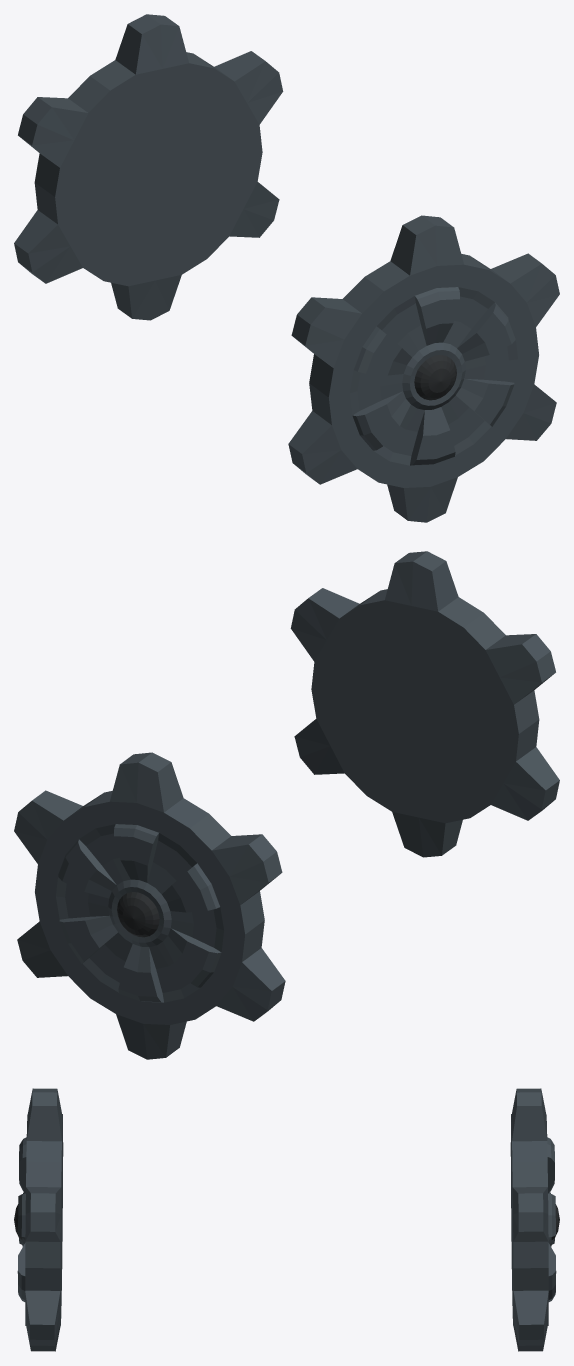
The model's file is Engrenagens.obj.
3 views of the same model, one above another, from view 1: azimuth 30°, elevation 25°; view 2: azimuth 150°, elevation 25°; view 3: azimuth 270°, elevation 25° (orthographic). The views are drawn at different scales.
Parts seen in each view (by area): view 1: Engrenagem_Superior_Sphere.011; view 2: Engrenagem_Superior_Sphere.011; view 3: Engrenagem_Superior_Sphere.011.
Part boxes in pixels (left/top/right/bottom): Engrenagem_Superior_Sphere.011: left=14, top=14, right=559, bottom=522; Engrenagem_Superior_Sphere.011: left=14, top=551, right=559, bottom=1059; Engrenagem_Superior_Sphere.011: left=14, top=1088, right=559, bottom=1351.
Size of the model in its own units: 1.48 by 1.62 by 3.09.
1 material, 1 textured.
